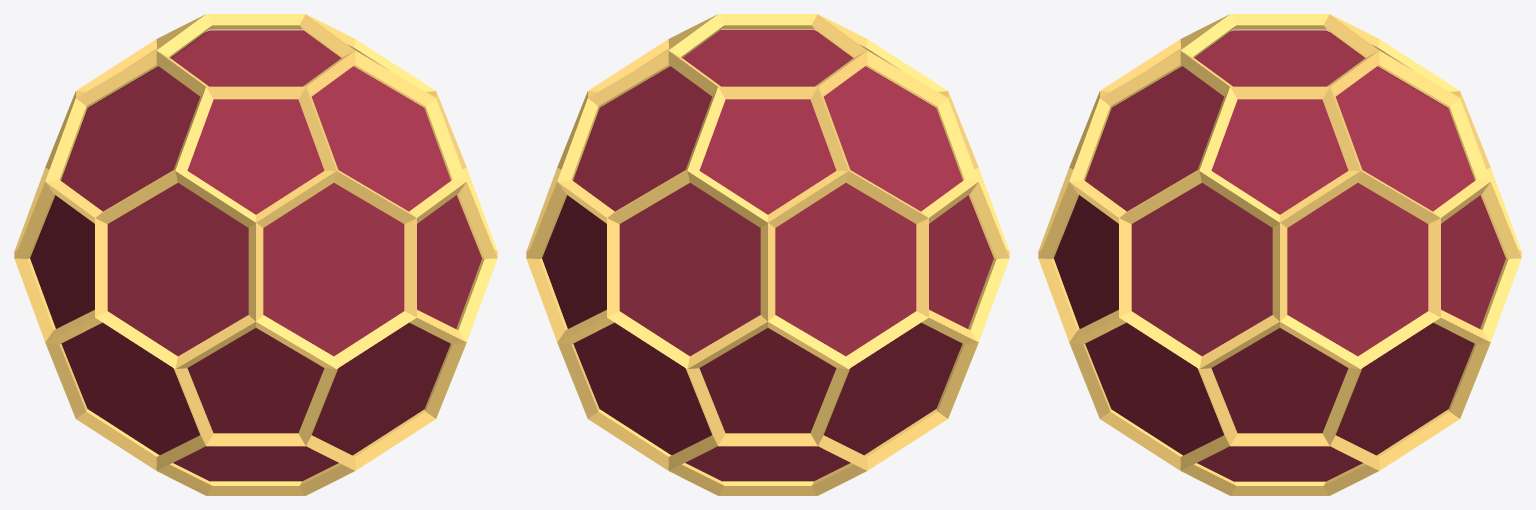
File: PolyBallLight.fbx
The picture shows the model from 3 angles, left to right: view 1: azimuth 30°, elevation 25°; view 2: azimuth 150°, elevation 25°; view 3: azimuth 270°, elevation 25°; orthographic projection.
Parts seen in each view (by area): view 1: HexShape, HexWires; view 2: HexShape, HexWires; view 3: HexShape, HexWires.
Part boxes in pixels (<box>): HexShape: <box>30,30,481,481</box>; HexWires: <box>14,14,497,495</box>; HexShape: <box>542,30,993,481</box>; HexWires: <box>526,14,1009,495</box>; HexShape: <box>1054,30,1505,481</box>; HexWires: <box>1038,14,1521,495</box>.
Size of the model in its own units: 109 by 101 by 109.
